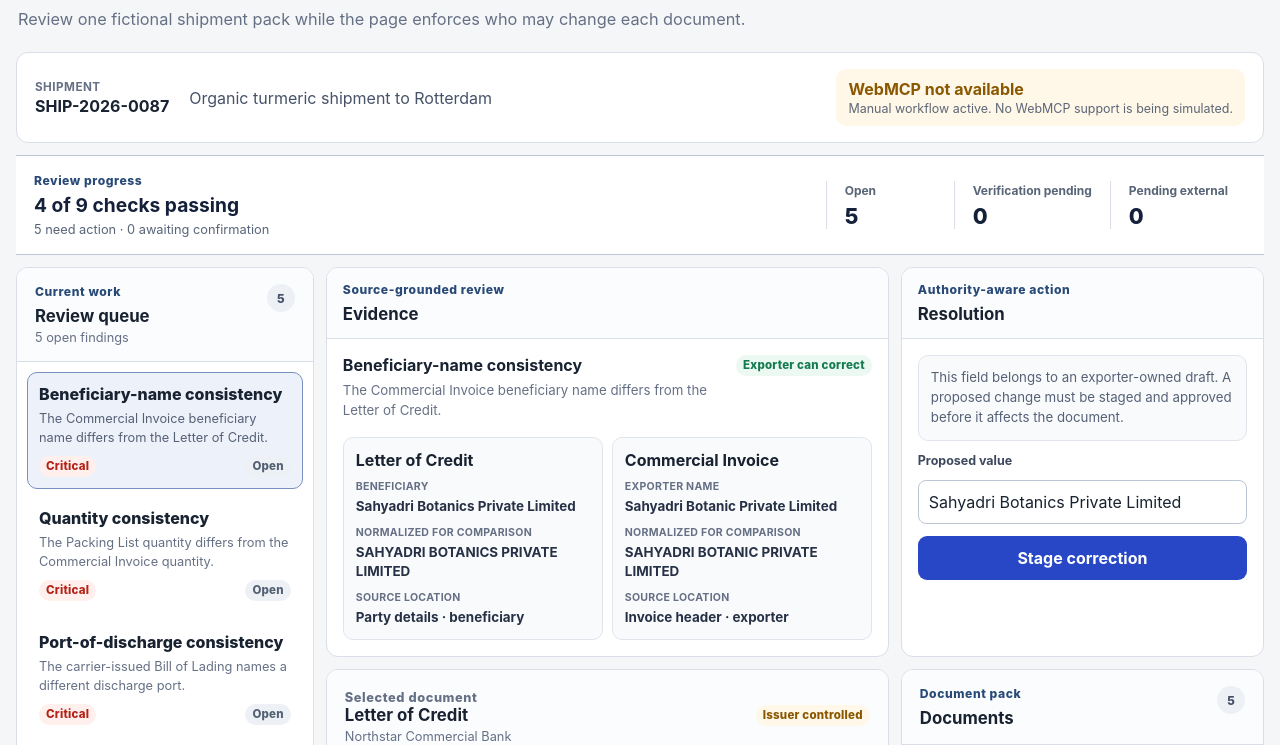
Test case: single-screen document resolution workflow › marks an approved correction as awaiting verification and allows undo
The width and height of the screenshot is (1280, 745).
(page scrolled)
Click the button "Beneficiary-name consistency" at (165, 431), box [27, 372, 303, 489]
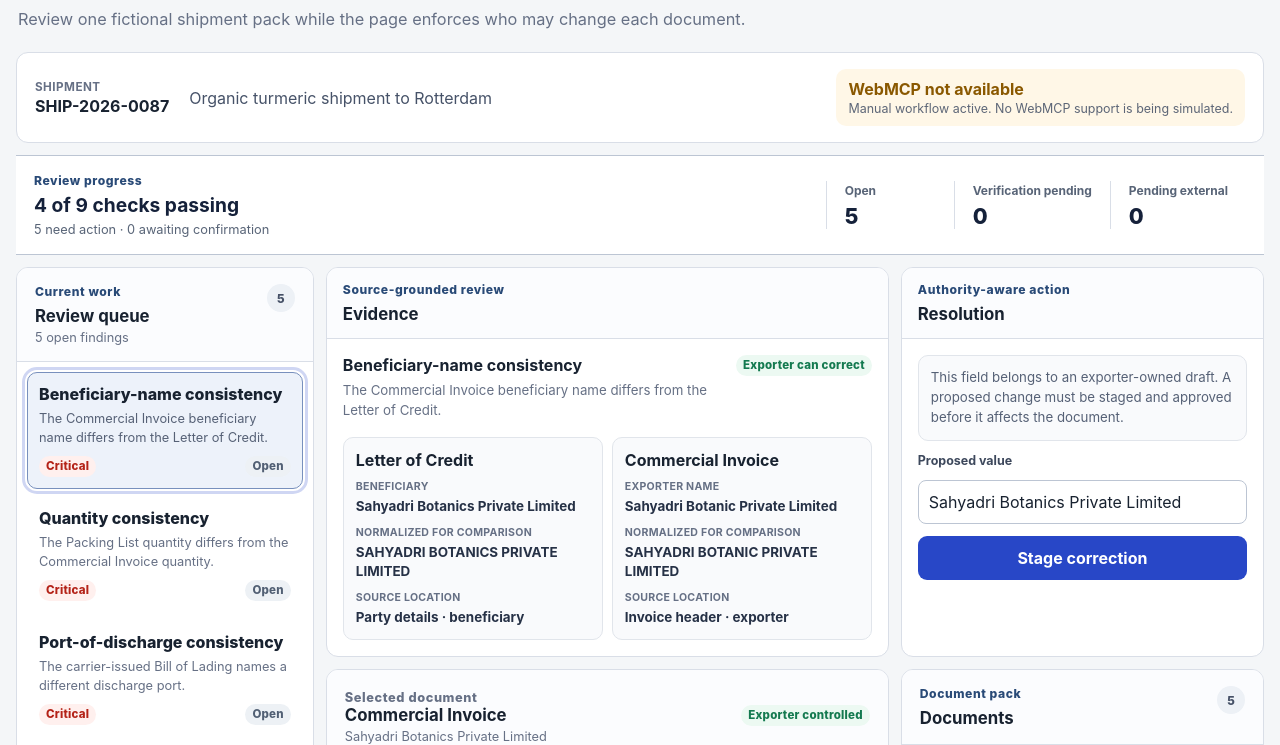
Click the button "Stage correction" at (1082, 558), box [918, 536, 1247, 580]
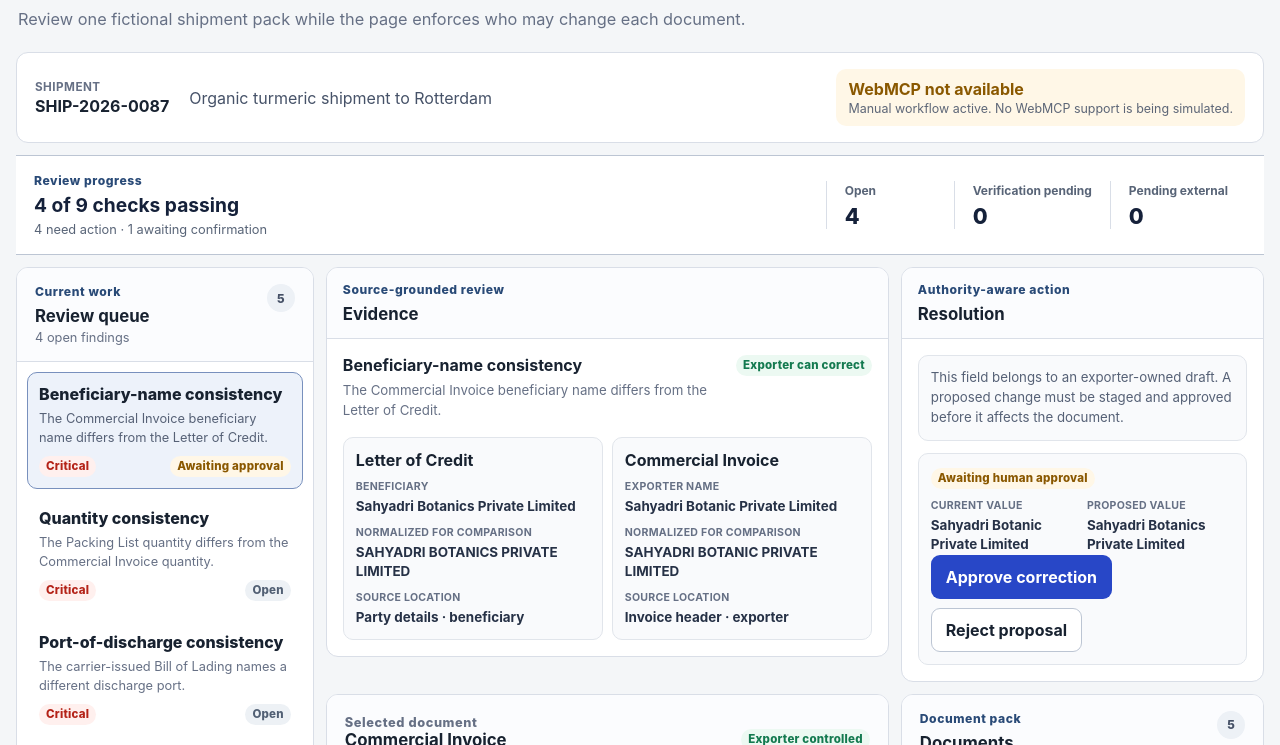
Click the button "Approve correction" at (1021, 577), box [931, 555, 1112, 599]
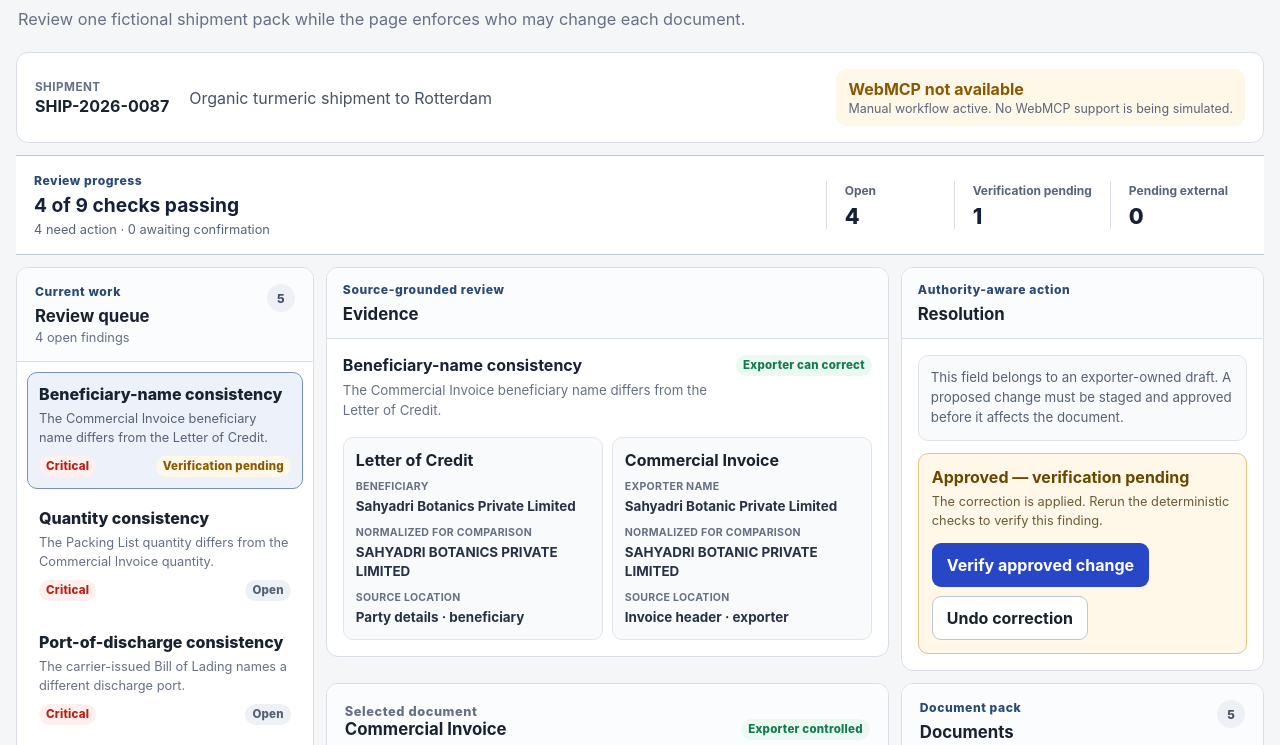
Now the element labelled "4 open" is shown, box [826, 181, 954, 229]
Now the element labelled "1 verification pending" is shown, box [954, 181, 1110, 229]
Now the text "Approved — verification pending" is shown, box [932, 467, 1233, 487]
Click the button "Undo correction" at (1010, 618), box [932, 596, 1088, 640]
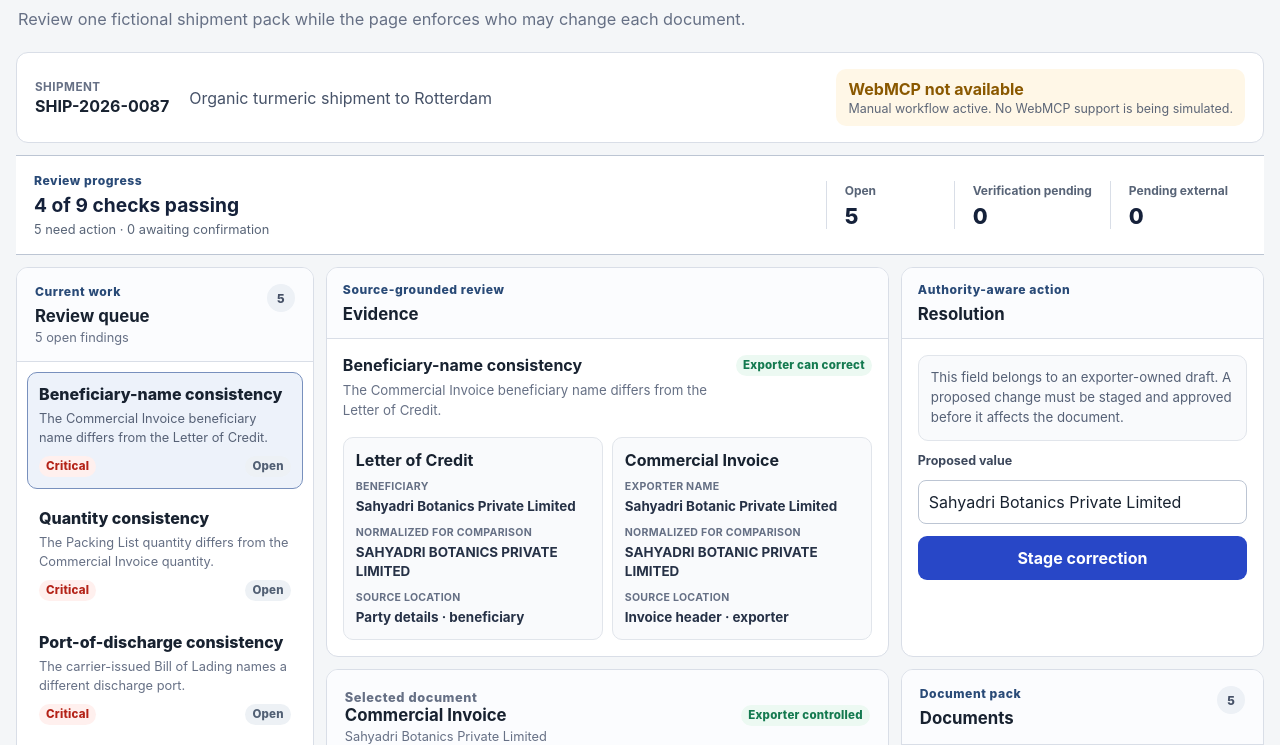
Now the element labelled "0 verification pending" is shown, box [954, 181, 1110, 229]
Now the element labelled "5 open" is shown, box [826, 181, 954, 229]
Now the text "Approved — verification pending" is gone
